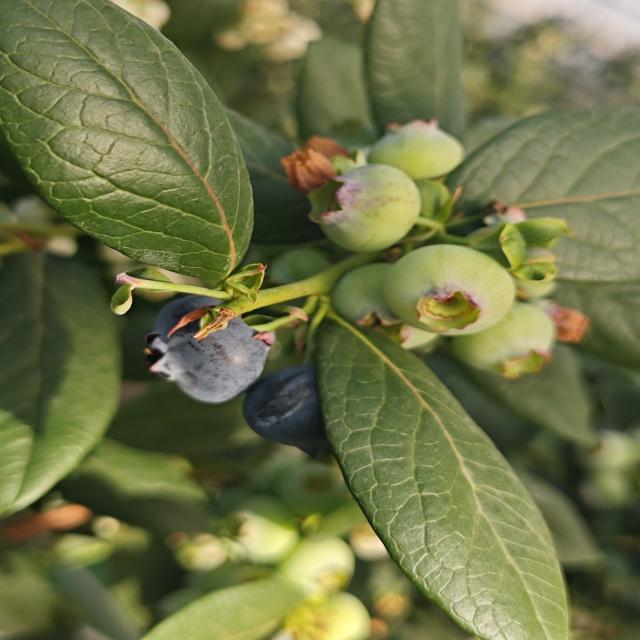ripe: (140, 292, 277, 407), (239, 362, 331, 459)
